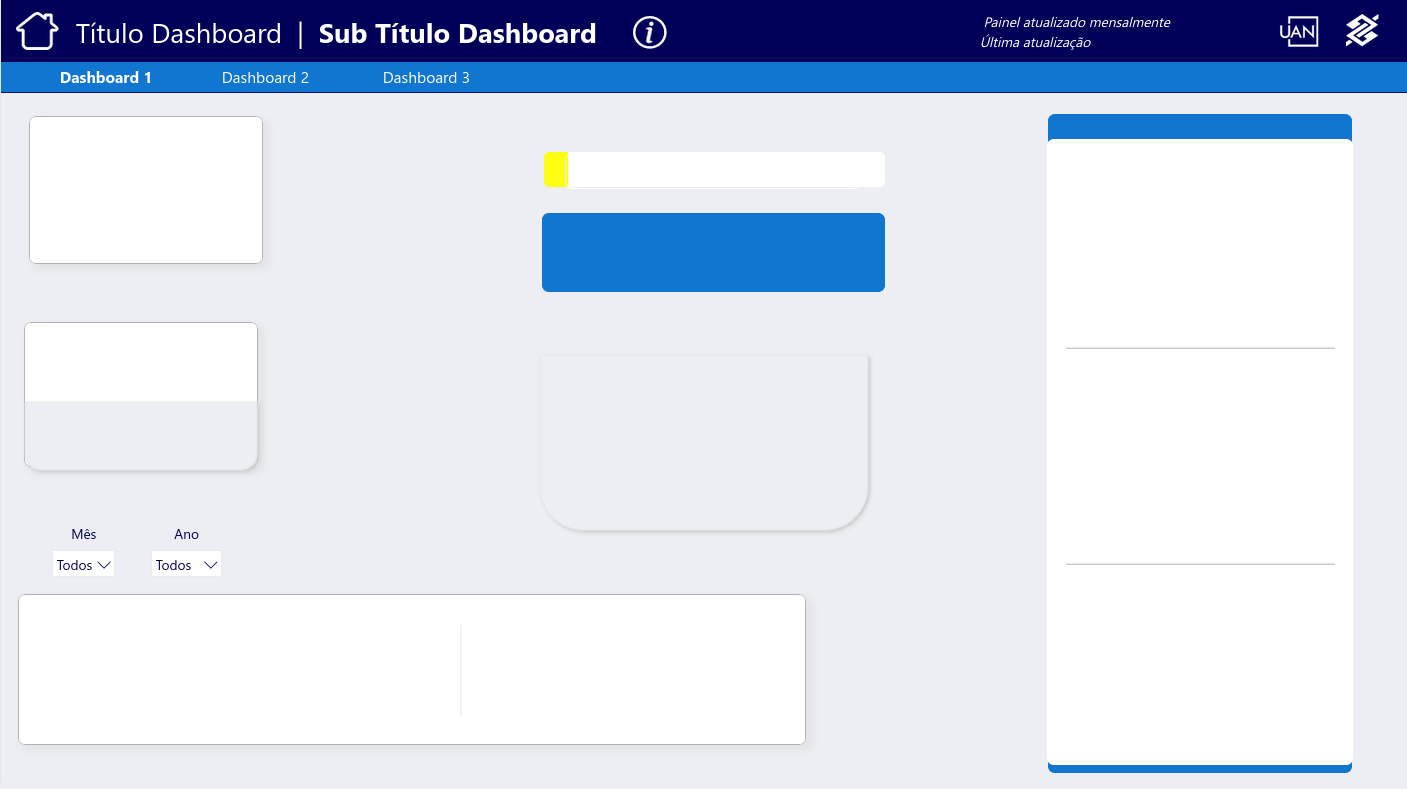

The page's visual inventory and layout, read from the dashboard file:
{"tool":"powerbi","page":{"name":"Gestão de Protocolos e Atividades 01","canvas":[1280,720],"ordinal":0},"visuals":[{"type":"textbox","box":[288.5,4.5,419.2,40.6],"z":0},{"type":"barChart","title":"Quantidade Protocolos por Agrupamento de Atividades","fields":{"Category":["embaixadores tb_tip_agrup_prc.NM_AGRUP_PRC1"],"Y":["CountNonNull(embaixadores tb_prc.CD_PRC)"]},"box":[815,412.5,465,276.2],"z":1000},{"type":"barChart","fields":{"Y":["CountNonNull(embaixadores tb_prc.CD_PRC)"],"Category":["embaixadores tb_tip_atvd.NM_TIP_ATVD"]},"box":[348.8,413.8,466.2,277.5],"z":2000},{"type":"barChart","title":"Quantidade Protocolos por Detalhamento da Atividade","fields":{"Category":["embaixadores tb_tip_prc.NM_TIP_PRC"],"Y":["Count(embaixadores tb_prc.CD_PRC)"]},"box":[815,110,455,277.5],"z":3000},{"type":"slicer","fields":{"Values":["embaixadores tb_solic.CD_PRF"]},"box":[22.5,177.7,289.6,64.2],"z":4000},{"type":"slicer","fields":{"Values":["embaixadores tb_exec.CD_PRF1"]},"box":[21.2,382.8,289.6,64.2],"z":5000},{"type":"card","fields":{"Values":["Tb_Medidas.Qtd Protocolo"]},"box":[362.1,202.3,189.5,110.3],"z":6000},{"type":"card","fields":{"Values":["Tb_Medidas.saída"]},"box":[570.1,203.7,193.8,108.9],"z":7000},{"type":"slicer","fields":{"Values":["embaixadores tb_solic.CD_PRF","embaixadores tb_prc.CD_PRC"]},"box":[22.5,244.7,290,73.6],"z":8000},{"type":"slicer","fields":{"Values":["embaixadores tb_exec.CD_PRF","embaixadores tb_prc.CD_PRC"]},"box":[21.2,449.8,290,73.6],"z":9000},{"type":"pageNavigator","box":[31.1,46.7,1212.3,35.4],"z":11000},{"type":"card","fields":{"Values":["Tb_Medidas.Data atual"]},"box":[1068.7,6,165.7,35.8],"z":12000},{"type":"textbox","box":[63.1,4.5,213.3,40.6],"z":13000},{"type":"actionButton","box":[716.6,4.5,46.6,39.1],"z":14000},{"type":"textbox","box":[31.2,128.8,270,35],"z":15000},{"type":"textbox","box":[0,688.9,307,31.1],"z":16000},{"type":"textbox","box":[117.1,583.2,129.2,39.6],"z":18000},{"type":"shape","box":[91.3,584,167.1,34.5],"z":18500},{"type":"textbox","box":[332.4,113.2,456.9,32.5],"z":18501}]}

Visuals, with their boxes in screenshot pixels (x1, y1, x2, y2), scaled from the page's 1280x720 canvas onto the 1407x789 screenshot:
textbox: pyautogui.locateOnScreen(317, 5, 778, 49)
"Quantidade Protocolos por Agrupamento de Atividades" barChart: pyautogui.locateOnScreen(896, 452, 1406, 755)
barChart - CountNonNull(embaixadores tb_prc.CD_PRC) x embaixadores tb_tip_atvd.NM_TIP_ATVD: pyautogui.locateOnScreen(383, 453, 896, 758)
"Quantidade Protocolos por Detalhamento da Atividade" barChart: pyautogui.locateOnScreen(896, 121, 1396, 425)
slicer - embaixadores tb_solic.CD_PRF: pyautogui.locateOnScreen(25, 195, 343, 265)
slicer - embaixadores tb_exec.CD_PRF1: pyautogui.locateOnScreen(23, 419, 342, 490)
card - Tb_Medidas.Qtd Protocolo: pyautogui.locateOnScreen(398, 222, 606, 343)
card - Tb_Medidas.saída: pyautogui.locateOnScreen(627, 223, 840, 343)
slicer - embaixadores tb_solic.CD_PRF x embaixadores tb_prc.CD_PRC: pyautogui.locateOnScreen(25, 268, 344, 349)
slicer - embaixadores tb_exec.CD_PRF x embaixadores tb_prc.CD_PRC: pyautogui.locateOnScreen(23, 493, 342, 574)
pageNavigator: pyautogui.locateOnScreen(34, 51, 1367, 90)
card - Tb_Medidas.Data atual: pyautogui.locateOnScreen(1175, 7, 1357, 46)
textbox: pyautogui.locateOnScreen(69, 5, 304, 49)
actionButton: pyautogui.locateOnScreen(788, 5, 839, 48)
textbox: pyautogui.locateOnScreen(34, 141, 331, 179)
textbox: pyautogui.locateOnScreen(0, 755, 337, 788)
textbox: pyautogui.locateOnScreen(129, 639, 271, 682)
shape: pyautogui.locateOnScreen(100, 640, 284, 678)
textbox: pyautogui.locateOnScreen(365, 124, 868, 160)
